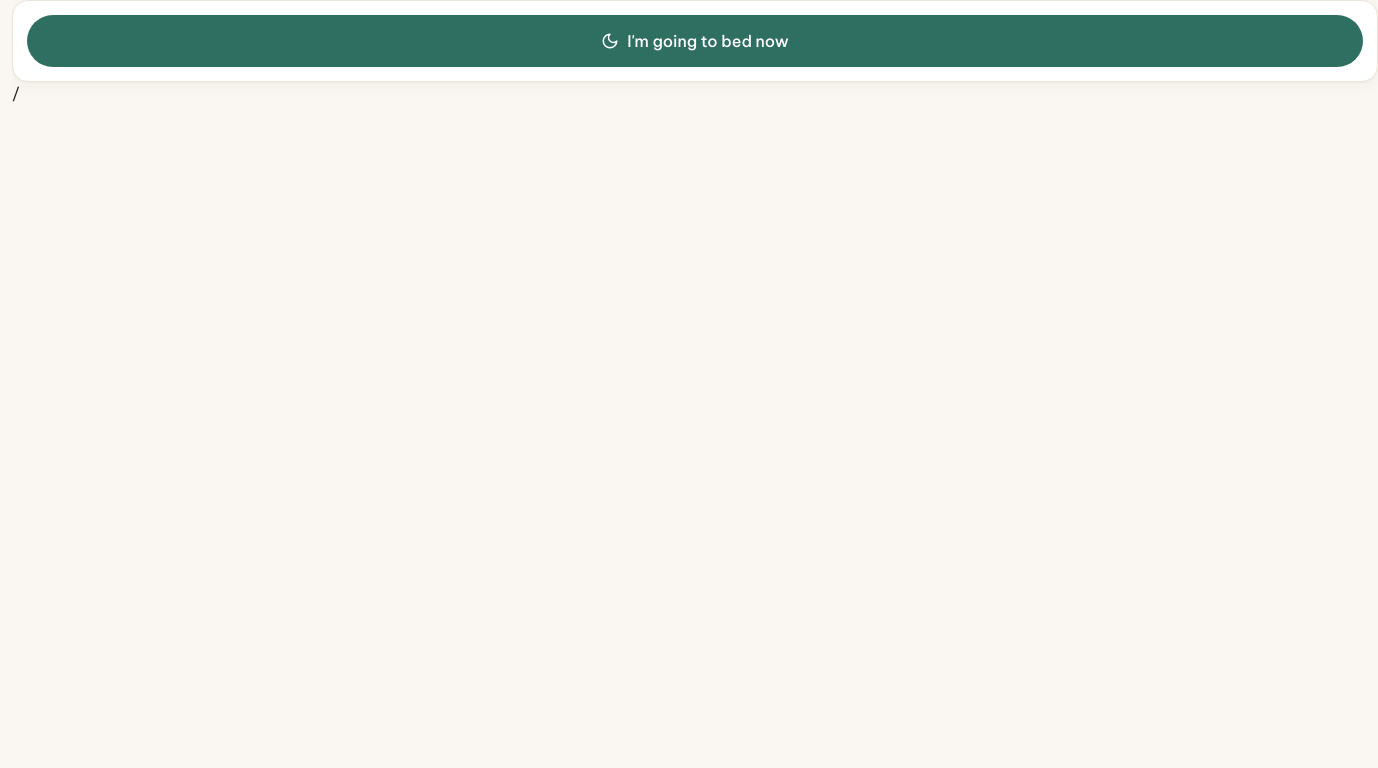
Test: BedtimeButton › one tap logs the current time as tonight’s bedtime
Click the button "I'm going to bed now": click(695, 41) [27,15,1363,67]
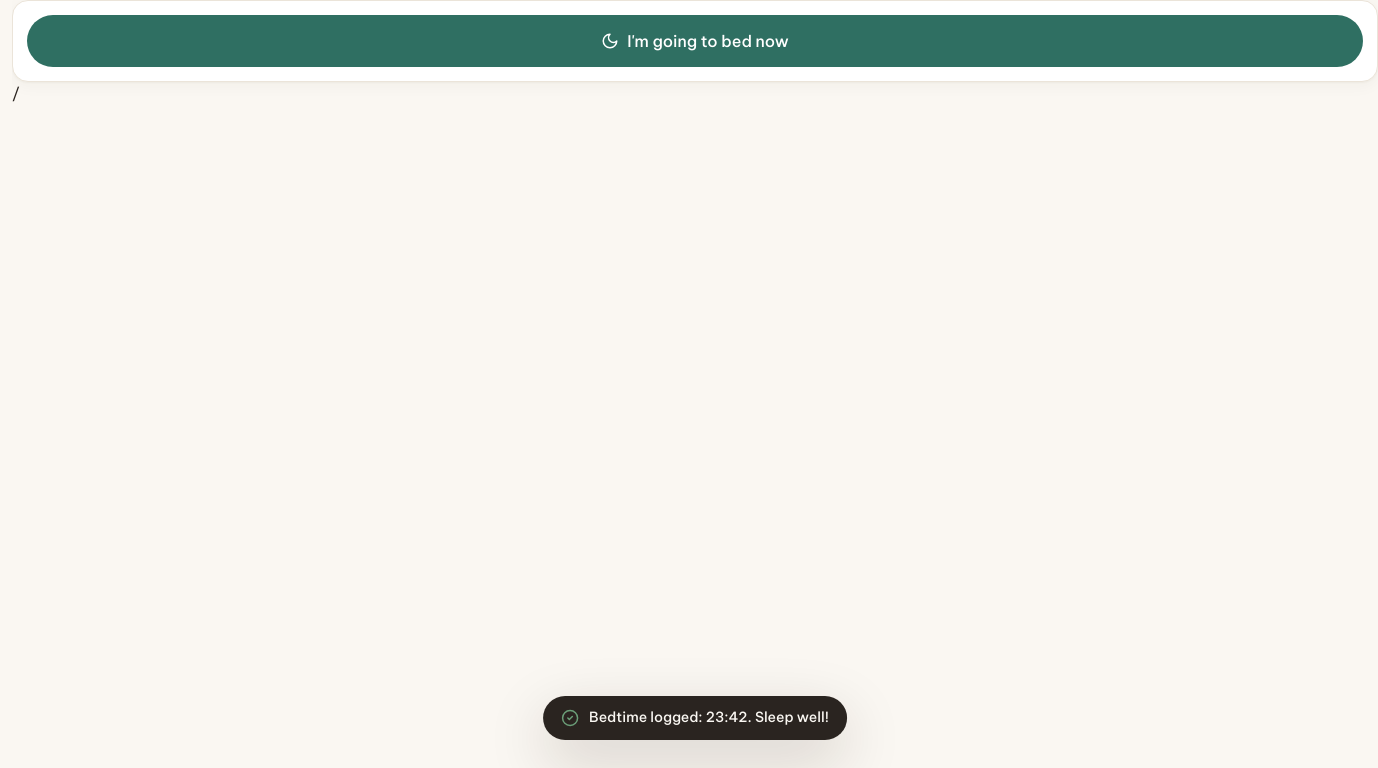
Now the text "Bedtime logged: 23:42. Sleep well!" is shown, box [589,707,829,729]
